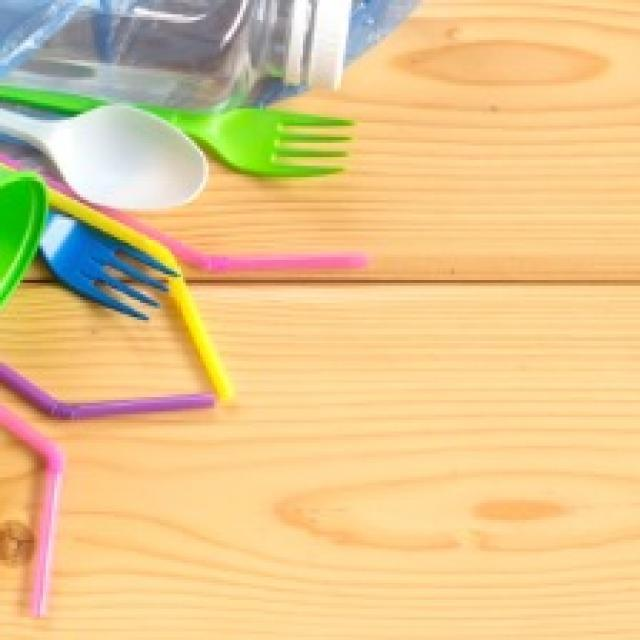plastic: (7, 74, 376, 217), (39, 220, 182, 327)
